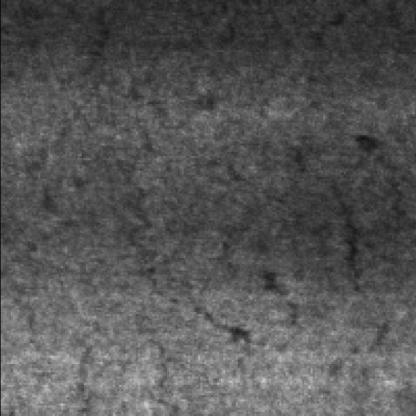crazing: (30, 0, 164, 331), (225, 137, 389, 362), (168, 200, 306, 356)
